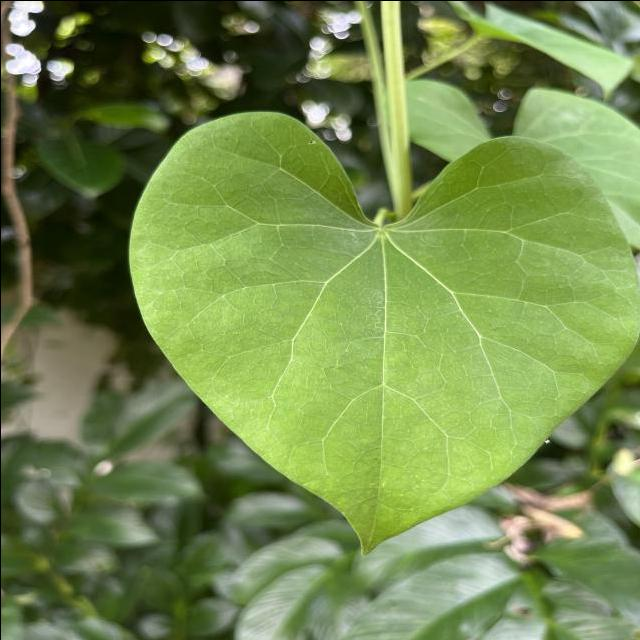Tinospora cordifolia: (117, 102, 640, 566)
